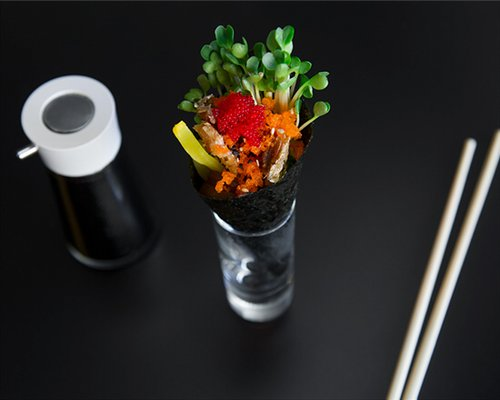pizza: (18, 74, 122, 179)
